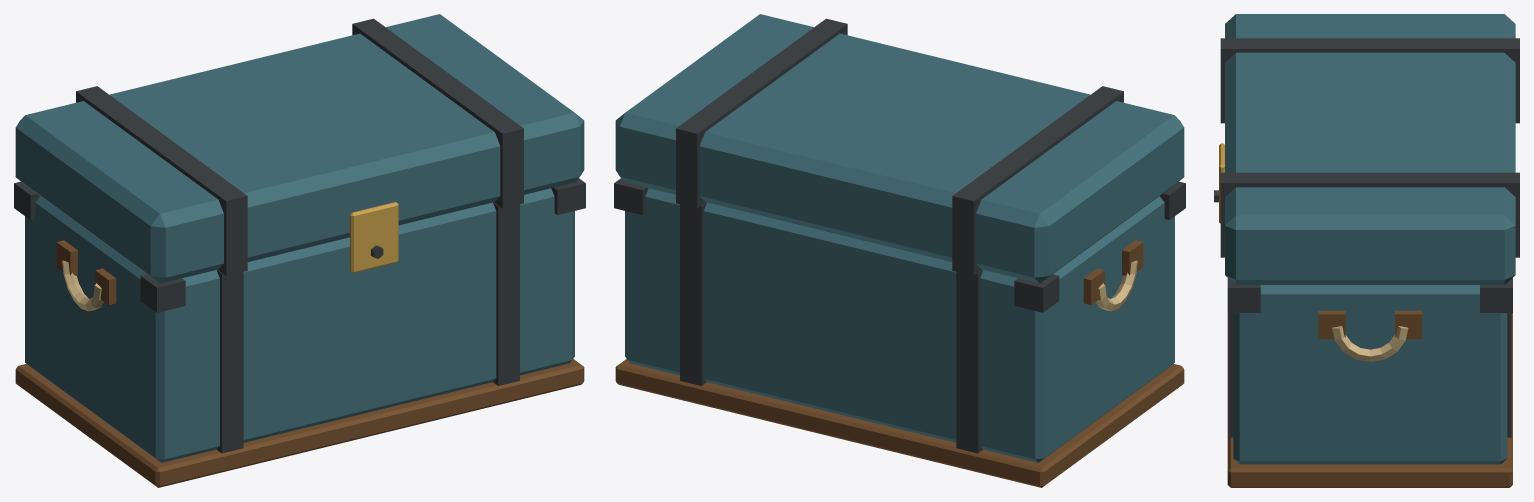
Rendered from sea-chest.glb.
The picture shows the model from 3 angles, left to right: view 1: azimuth 30°, elevation 25°; view 2: azimuth 150°, elevation 25°; view 3: azimuth 270°, elevation 25°; orthographic projection.
Visible parts, largest first — view 1: sea-chest; view 2: sea-chest; view 3: sea-chest.
Part boxes in pixels (left/top/right/bottom): sea-chest: left=14, top=14, right=585, bottom=487; sea-chest: left=614, top=14, right=1185, bottom=487; sea-chest: left=1214, top=14, right=1519, bottom=487.
Bounding box in the file's own units: 0.9268 × 0.552 × 0.558.
